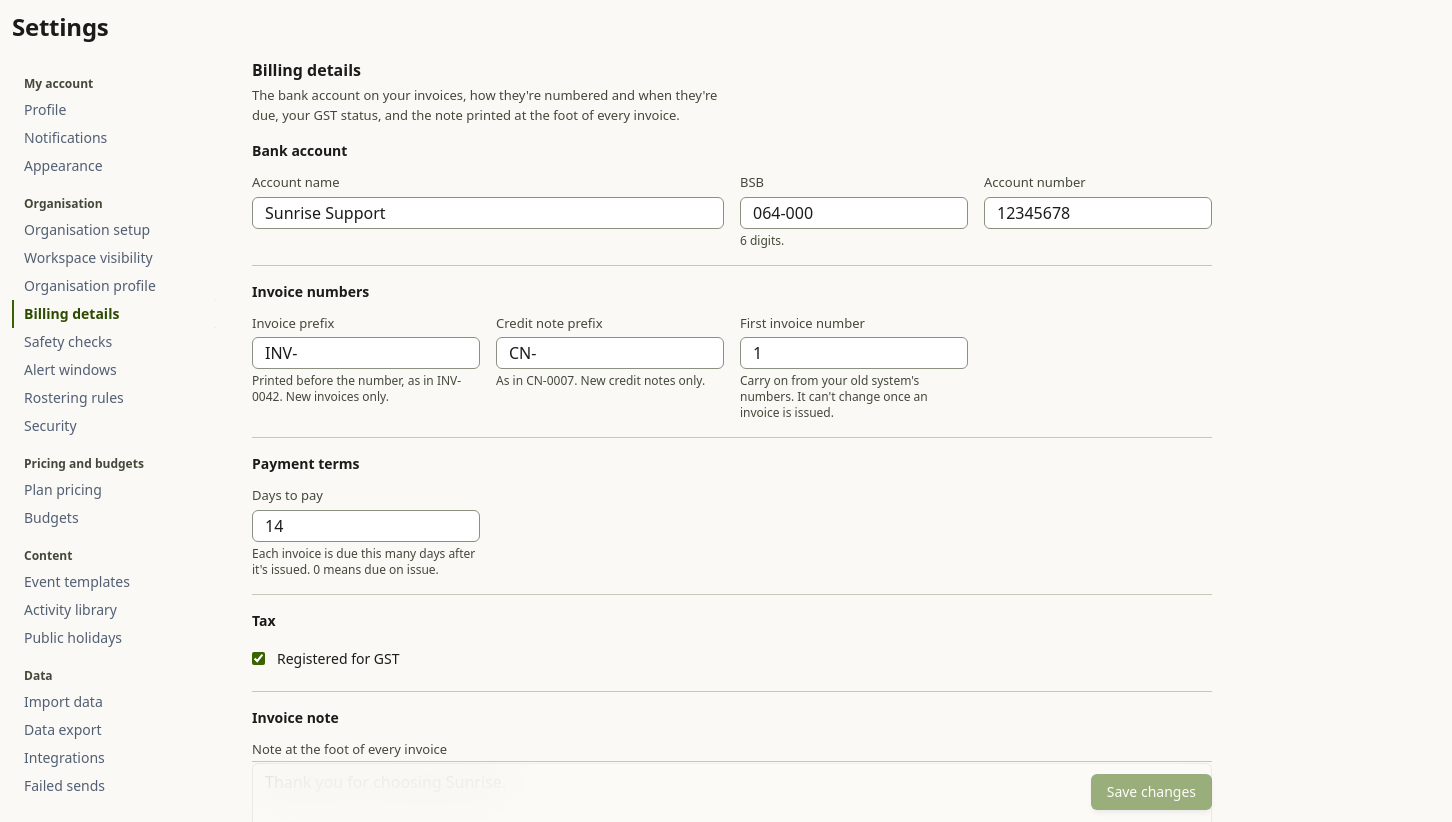
Test: Billing details › keeps the edited bank details and says why when a save fails, having sent the row with only that change
The image size is (1452, 822).
Replace the text in the field labelled "BSB" with "063-000" at (854, 212), box [740, 196, 968, 228]
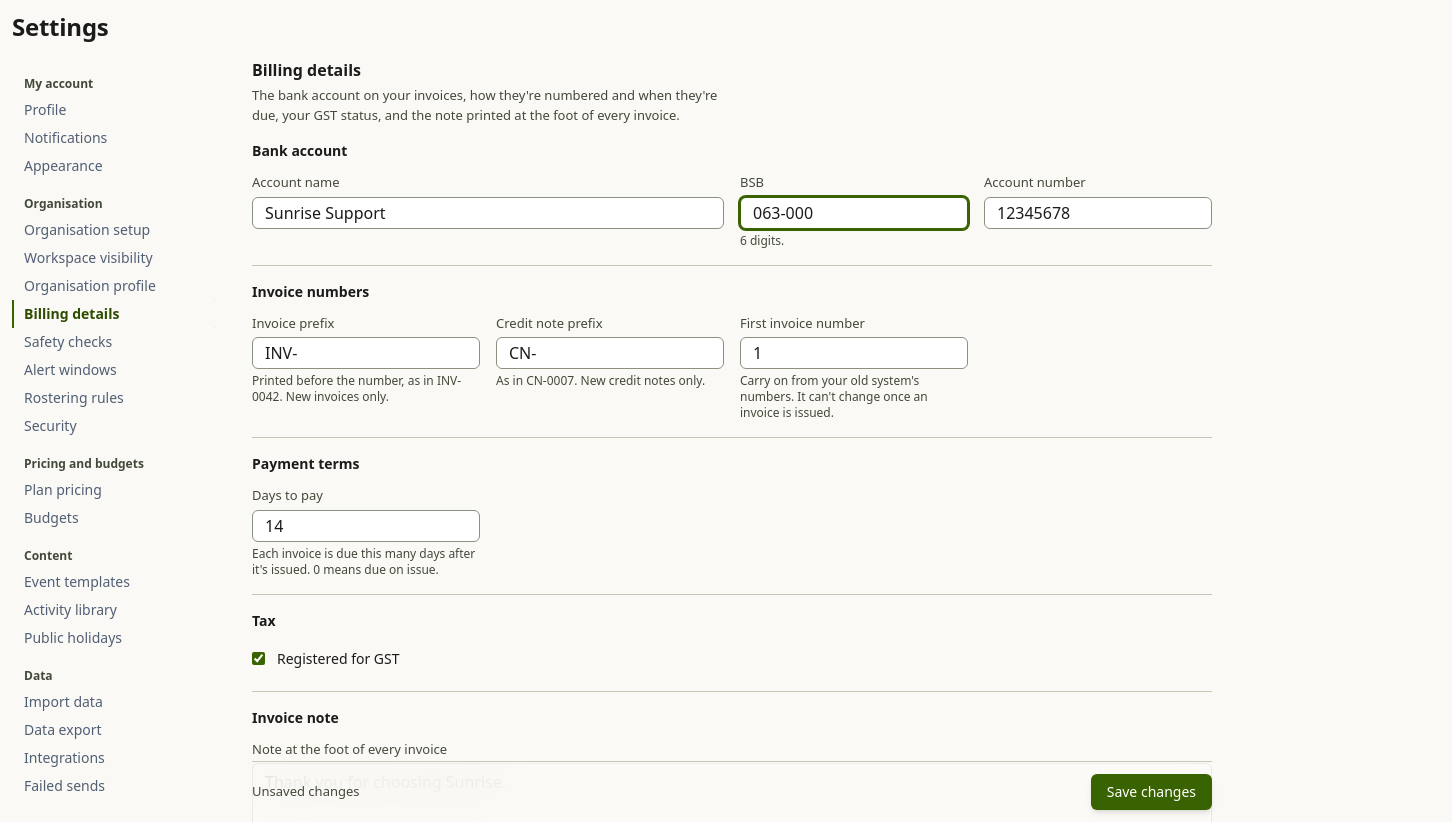
Click the button "Save changes" at (1151, 792), box [1091, 774, 1212, 810]
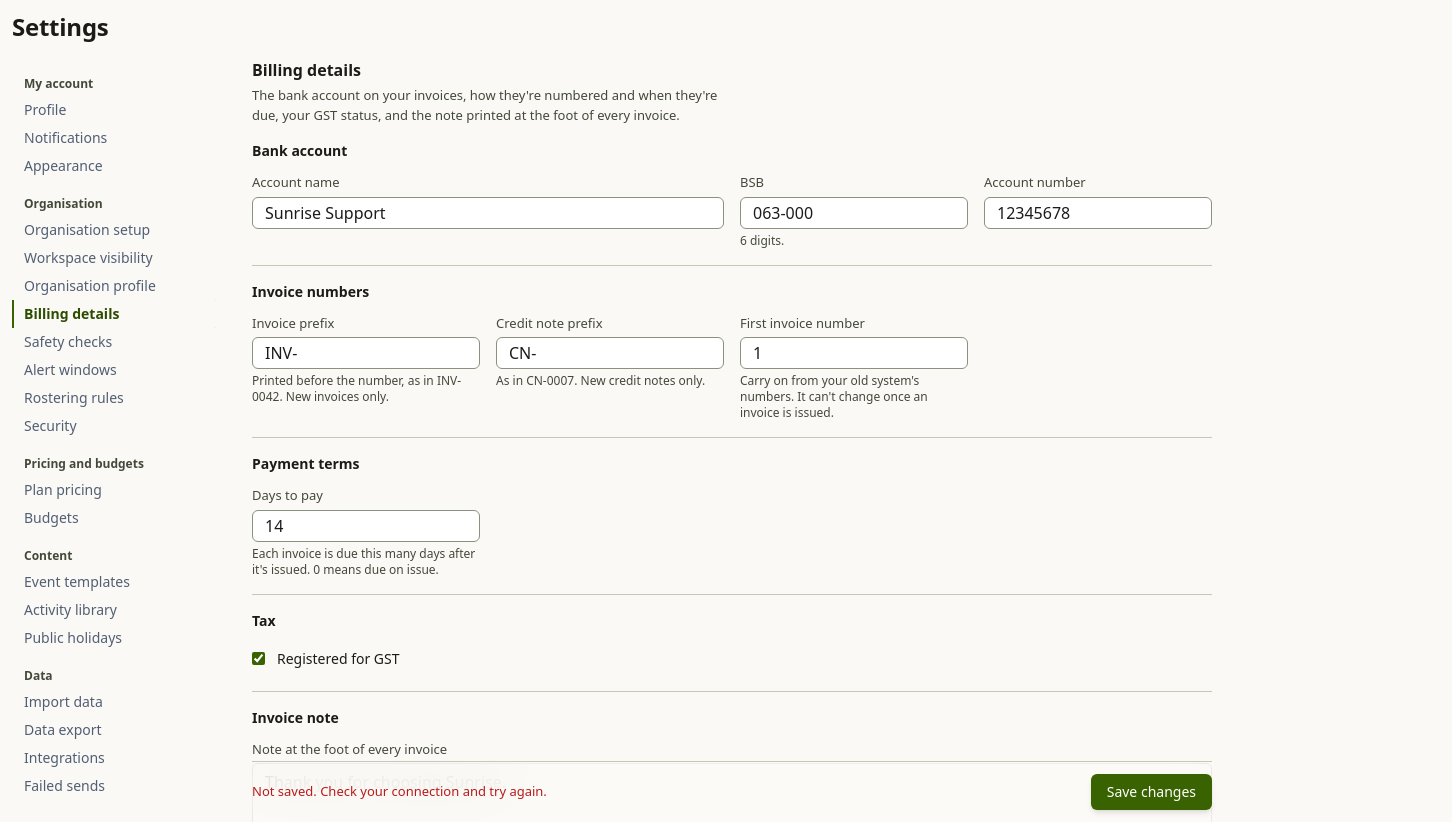
Result: the button "Save changes" is enabled at [1091, 774, 1212, 810]
Result: the message reads "Not saved. Check your connection and try again." at [252, 782, 547, 800]
